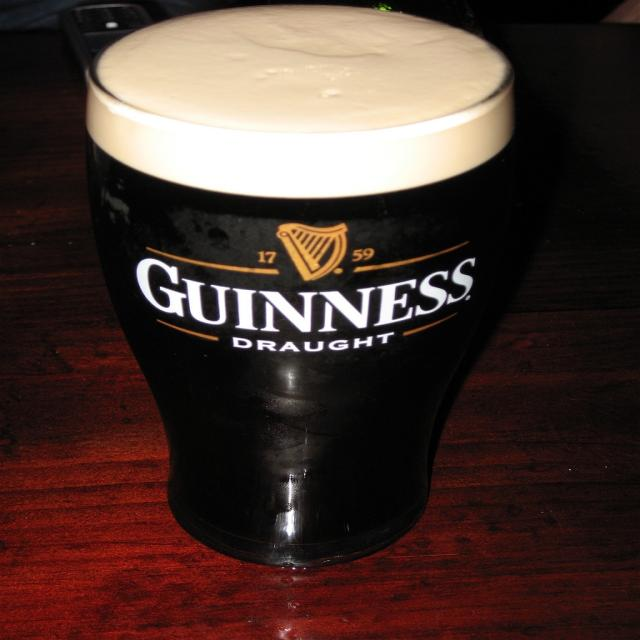guiness: (135, 222, 484, 336)
